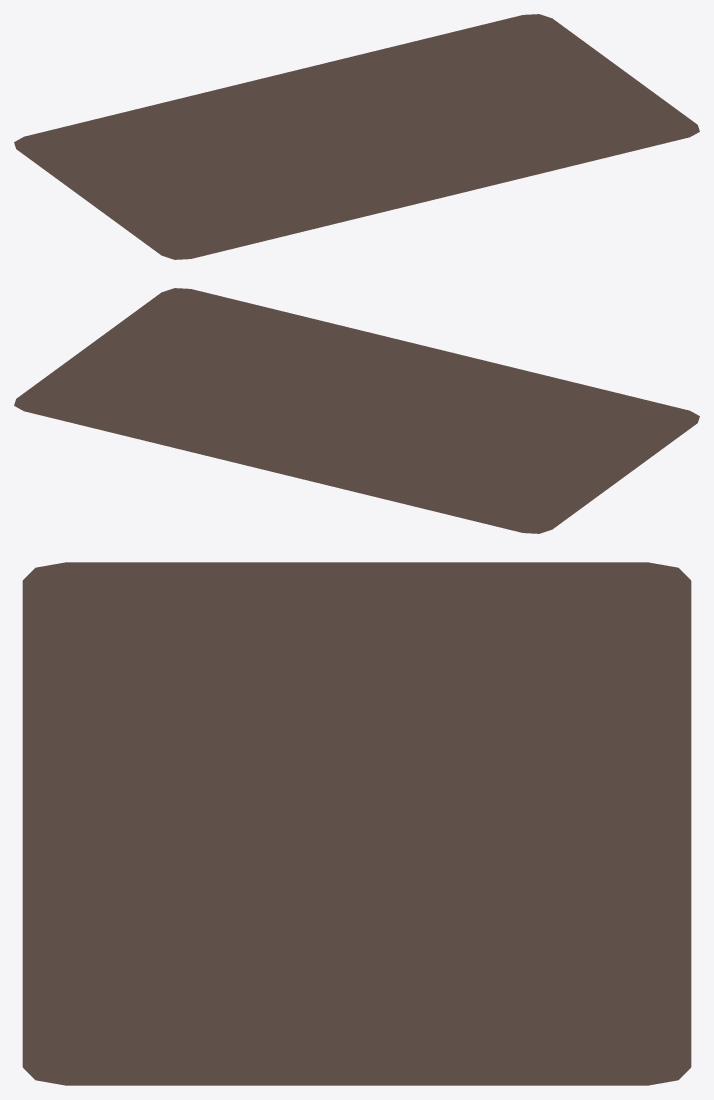
Rendered from TableC2_dirt_geo.fbx.
3 views of the same model, one above another, from view 1: azimuth 30°, elevation 25°; view 2: azimuth 150°, elevation 25°; view 3: azimuth 270°, elevation 25° (orthographic). The views are drawn at different scales.
Visible parts, largest first — view 1: TableC2_dirt_geo; view 2: TableC2_dirt_geo; view 3: TableC2_dirt_geo.
Part boxes in pixels (x1,y1,x2,y2): TableC2_dirt_geo: (14, 14, 699, 259); TableC2_dirt_geo: (14, 288, 699, 533); TableC2_dirt_geo: (22, 562, 691, 1085).
Size of the model in its own units: 2.47 by 1.33 by 1.19e-07.
